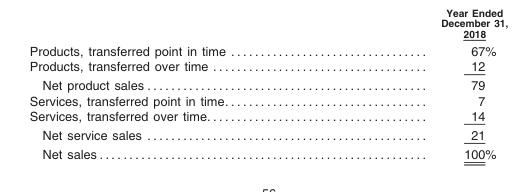table: (28, 28, 495, 161)
table column: (28, 28, 345, 161), (345, 28, 495, 161)
table column header: (28, 28, 495, 42)
table row: (28, 126, 495, 145), (28, 108, 495, 126), (28, 42, 495, 59), (28, 59, 495, 76), (28, 76, 495, 93), (28, 145, 495, 161), (28, 93, 495, 108), (28, 28, 495, 42)
